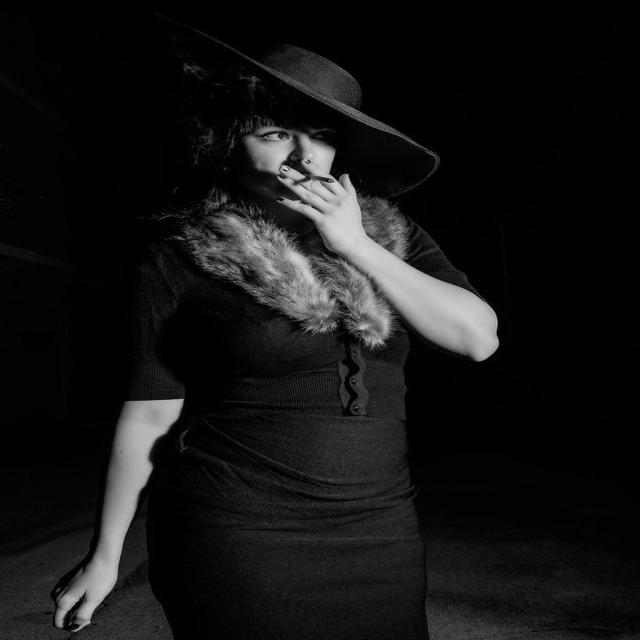smoking: (265, 152, 350, 217)
